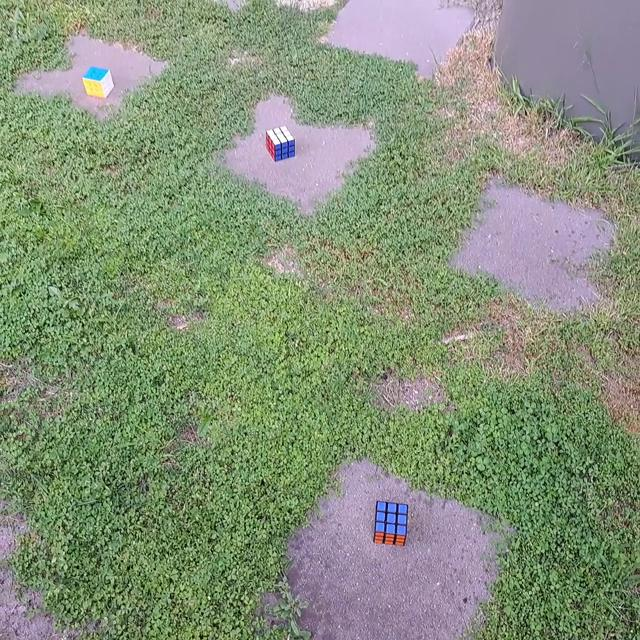rubix_cube: (372, 499, 411, 548), (80, 64, 117, 102), (264, 125, 297, 164)
